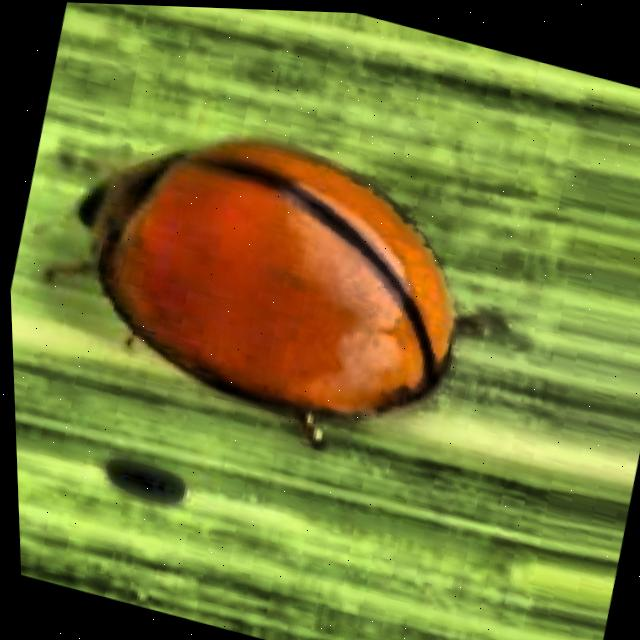Ladybug: (1, 32, 588, 544)
